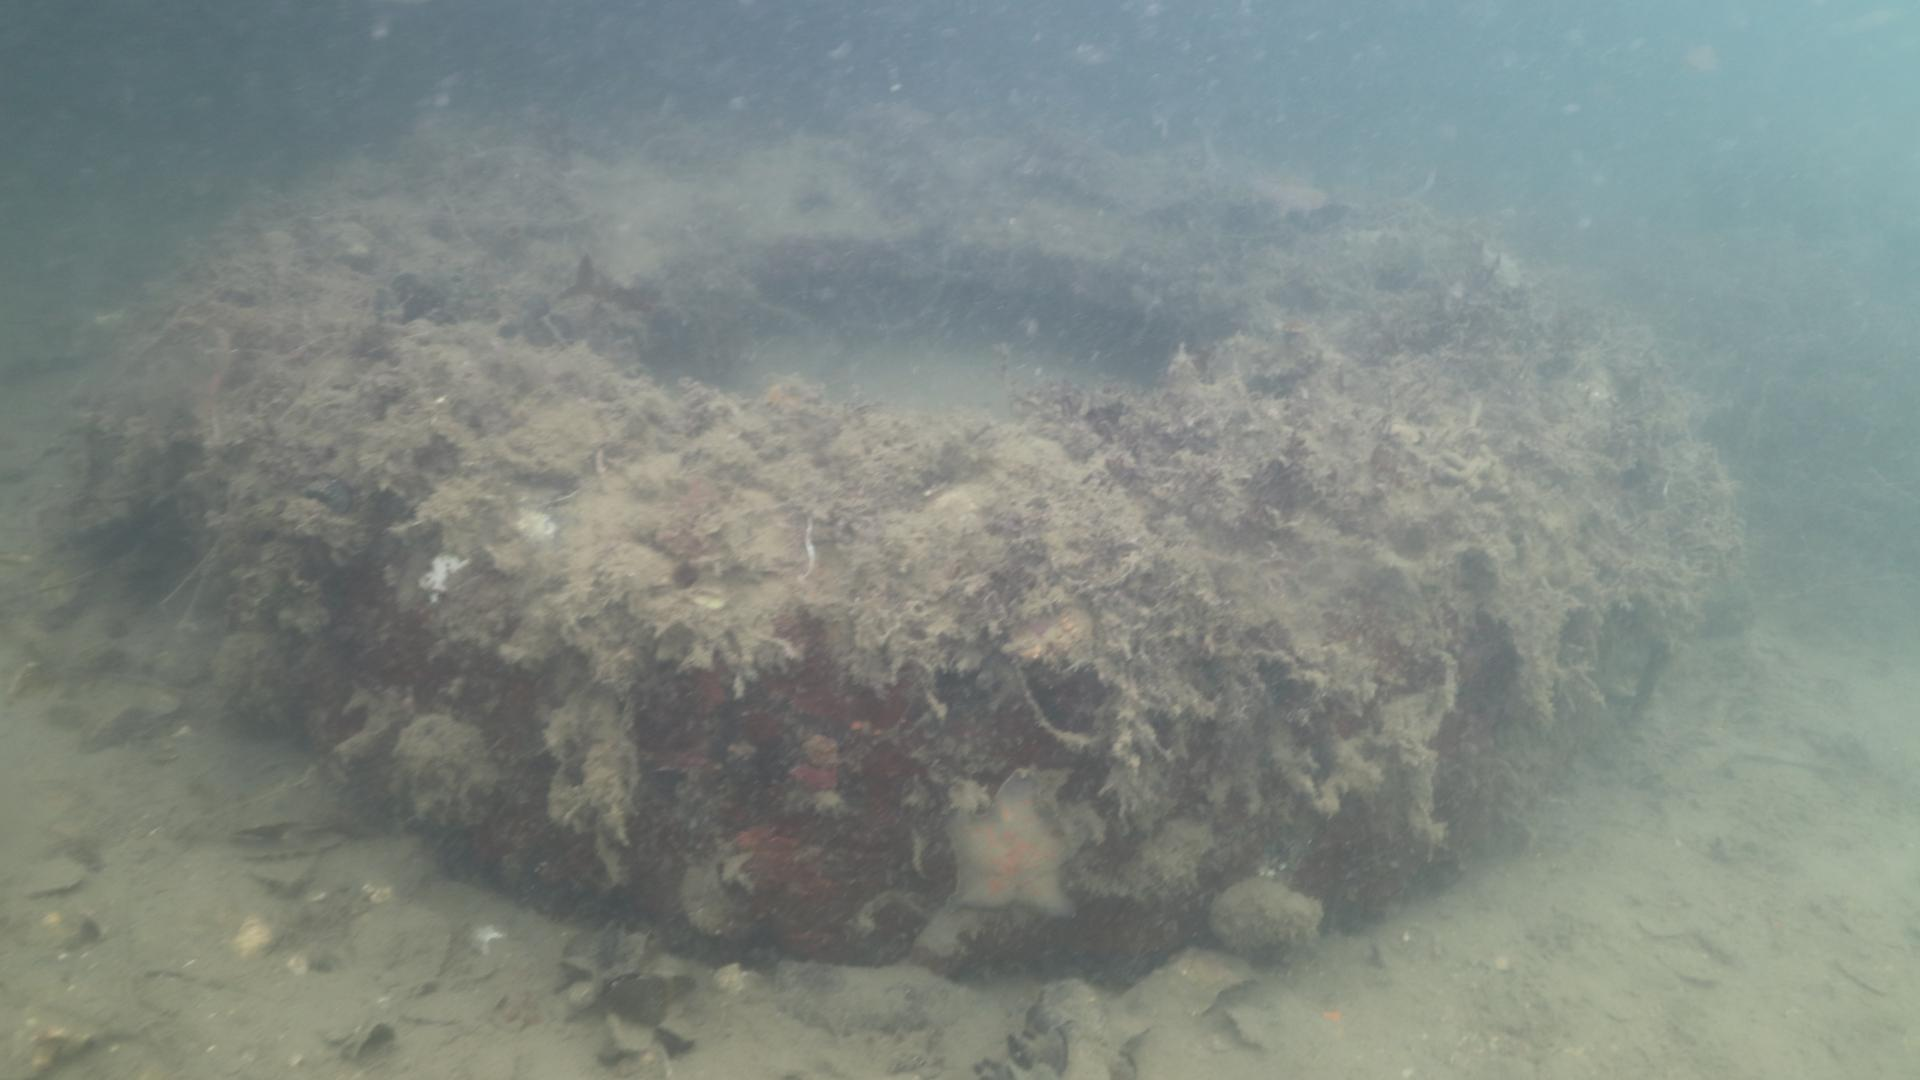tire: (270, 100, 1604, 1000)
